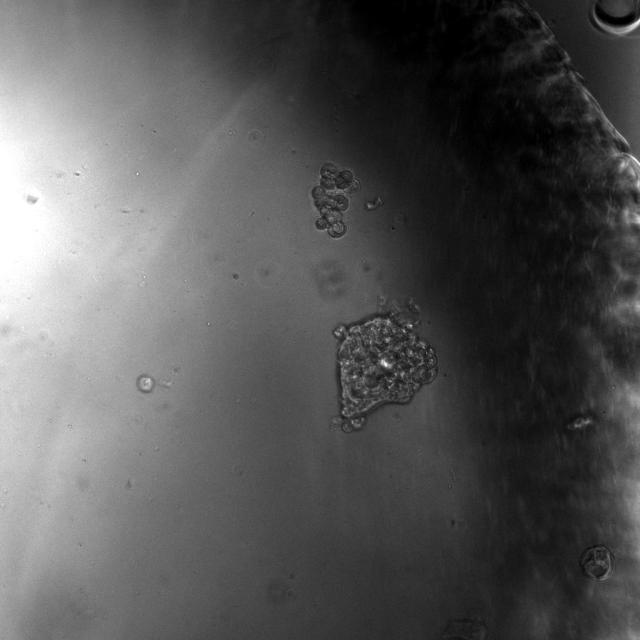organoid: (331, 298, 438, 432), (311, 162, 359, 238), (579, 545, 614, 581), (136, 374, 155, 393)
